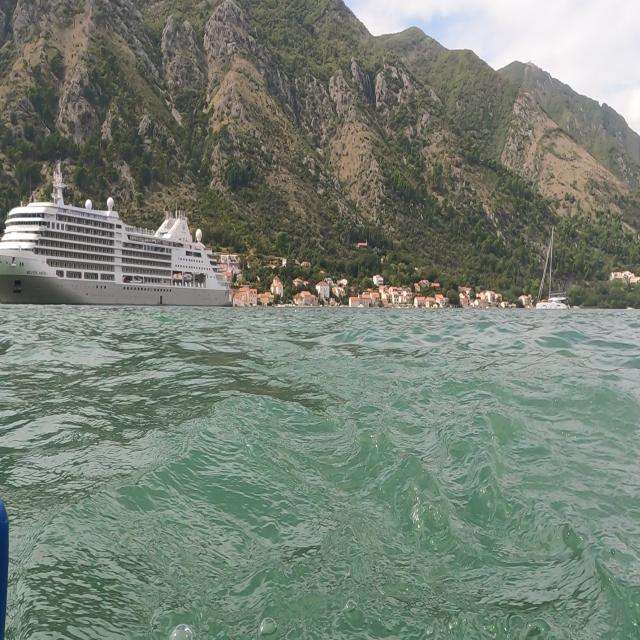boat: (1, 157, 235, 310), (531, 219, 578, 328)
